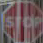Stop: (3, 3, 37, 42)
